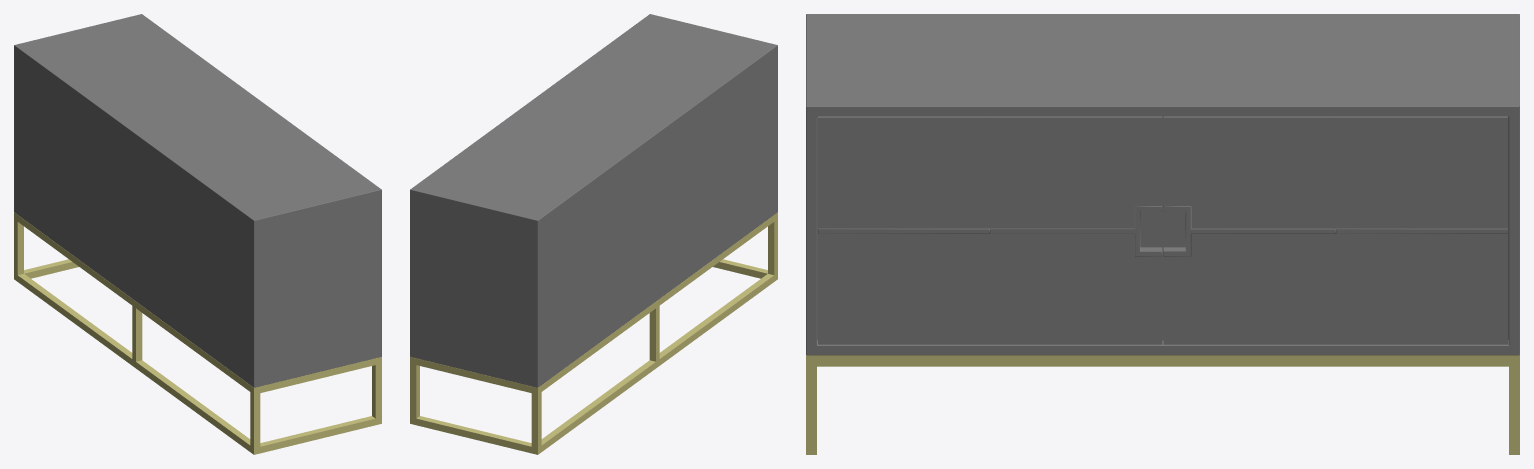
Rendered from buffet-bual.glb.
3 renders of one model, left to right at view 1: azimuth 30°, elevation 25°; view 2: azimuth 150°, elevation 25°; view 3: azimuth 270°, elevation 25°, orthographic. The views are drawn at different scales.
Size of the model in its own units: 0.402 by 0.6999 by 1.3.
